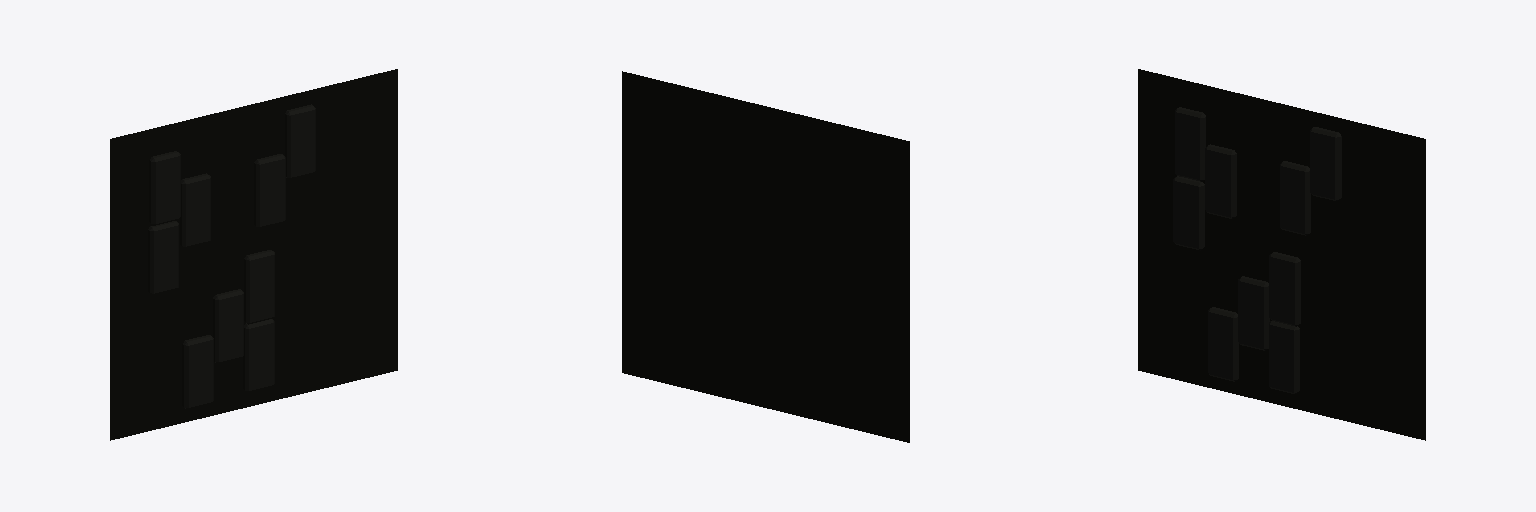
File: RoadTile002.obj
3 renders of one model, left to right at view 1: azimuth 30°, elevation 25°; view 2: azimuth 150°, elevation 25°; view 3: azimuth 330°, elevation 25°, orthographic.
Visible parts, largest first — view 1: Plane001, Brick005, Brick002, Brick004, Brick001, Brick008, Brick003, Brick, Brick007, Brick006; view 2: Plane001; view 3: Plane001, Brick001, Brick006, Brick, Brick003, Brick007, Brick004, Brick002, Brick005, Brick008.
Boxes of the visible parts, x1=… form: Plane001: x1=110, y1=69, x2=397, y2=440; Brick005: x1=149, y1=151, x2=180, y2=225; Brick002: x1=182, y1=335, x2=213, y2=409; Brick004: x1=254, y1=154, x2=285, y2=227; Brick001: x1=244, y1=250, x2=274, y2=324; Brick008: x1=243, y1=319, x2=274, y2=392; Brick003: x1=148, y1=221, x2=178, y2=294; Brick: x1=285, y1=104, x2=315, y2=178; Brick007: x1=213, y1=289, x2=243, y2=363; Brick006: x1=180, y1=173, x2=210, y2=247; Plane001: x1=622, y1=71, x2=909, y2=442; Plane001: x1=1138, y1=69, x2=1425, y2=440; Brick001: x1=1269, y1=252, x2=1300, y2=326; Brick006: x1=1205, y1=144, x2=1236, y2=218; Brick: x1=1310, y1=127, x2=1341, y2=200; Brick003: x1=1173, y1=176, x2=1204, y2=250; Brick007: x1=1238, y1=276, x2=1269, y2=350; Brick004: x1=1280, y1=161, x2=1310, y2=235; Brick002: x1=1208, y1=307, x2=1238, y2=381; Brick005: x1=1175, y1=107, x2=1205, y2=181; Brick008: x1=1269, y1=321, x2=1299, y2=393.
Bounding box in the file's own units: 32 × 32 × 0.6729.